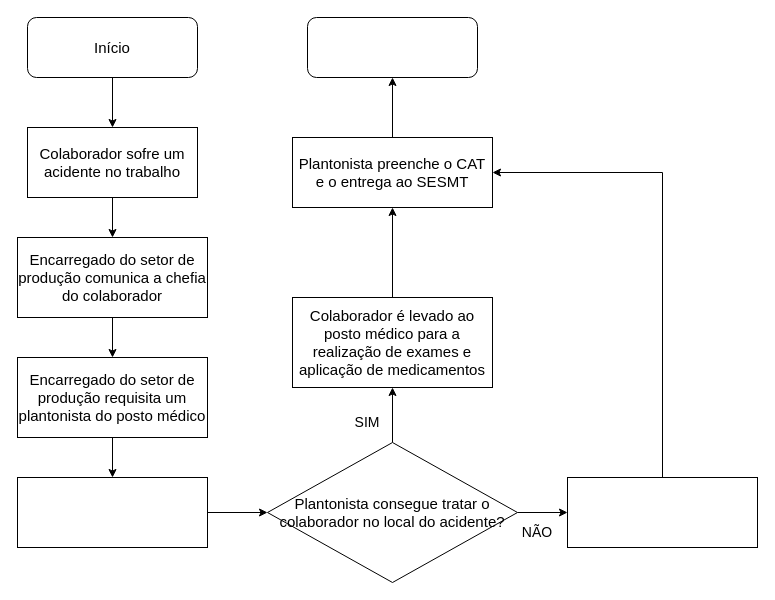
Some shapes in this 775 by 600 pixel diagram are drawn without their labels. Each missing label, with the centre of its shape:
Fim: pixel 392 47
Plantonista chega ao local do acidente e avalia o colaborador: pixel 112 512
SAMU é acionado e leva o ferido ao pronto-socorro: pixel 662 512
